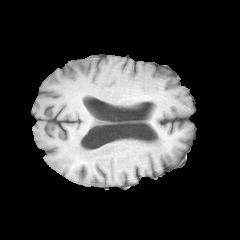glioma: (77, 135, 165, 173)
